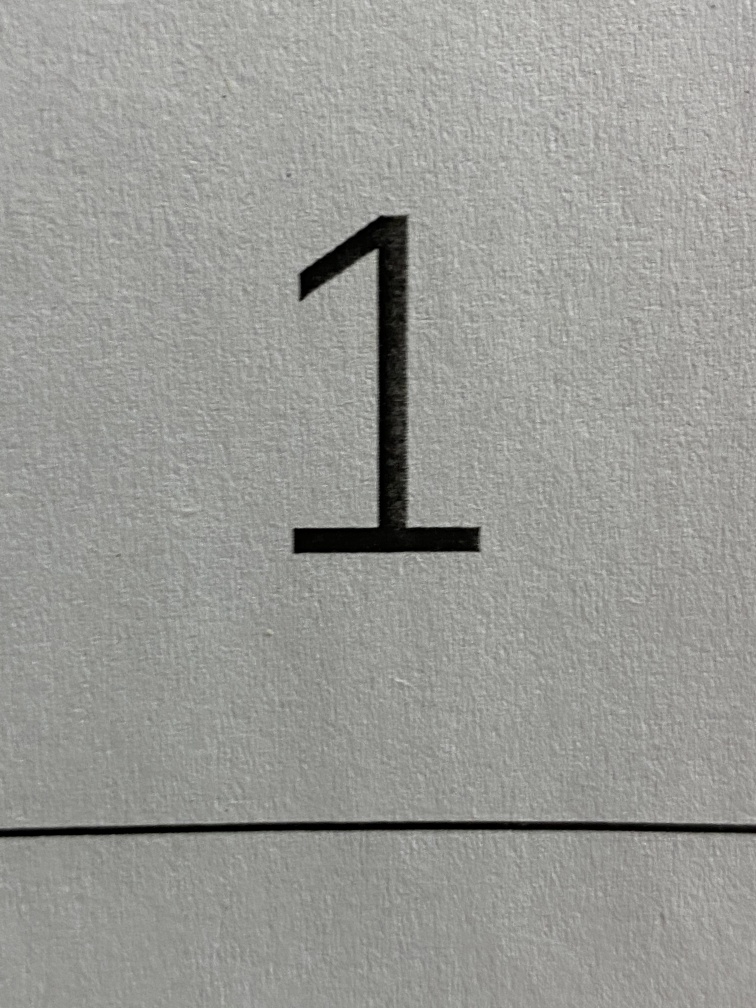one: (244, 173, 510, 611)
